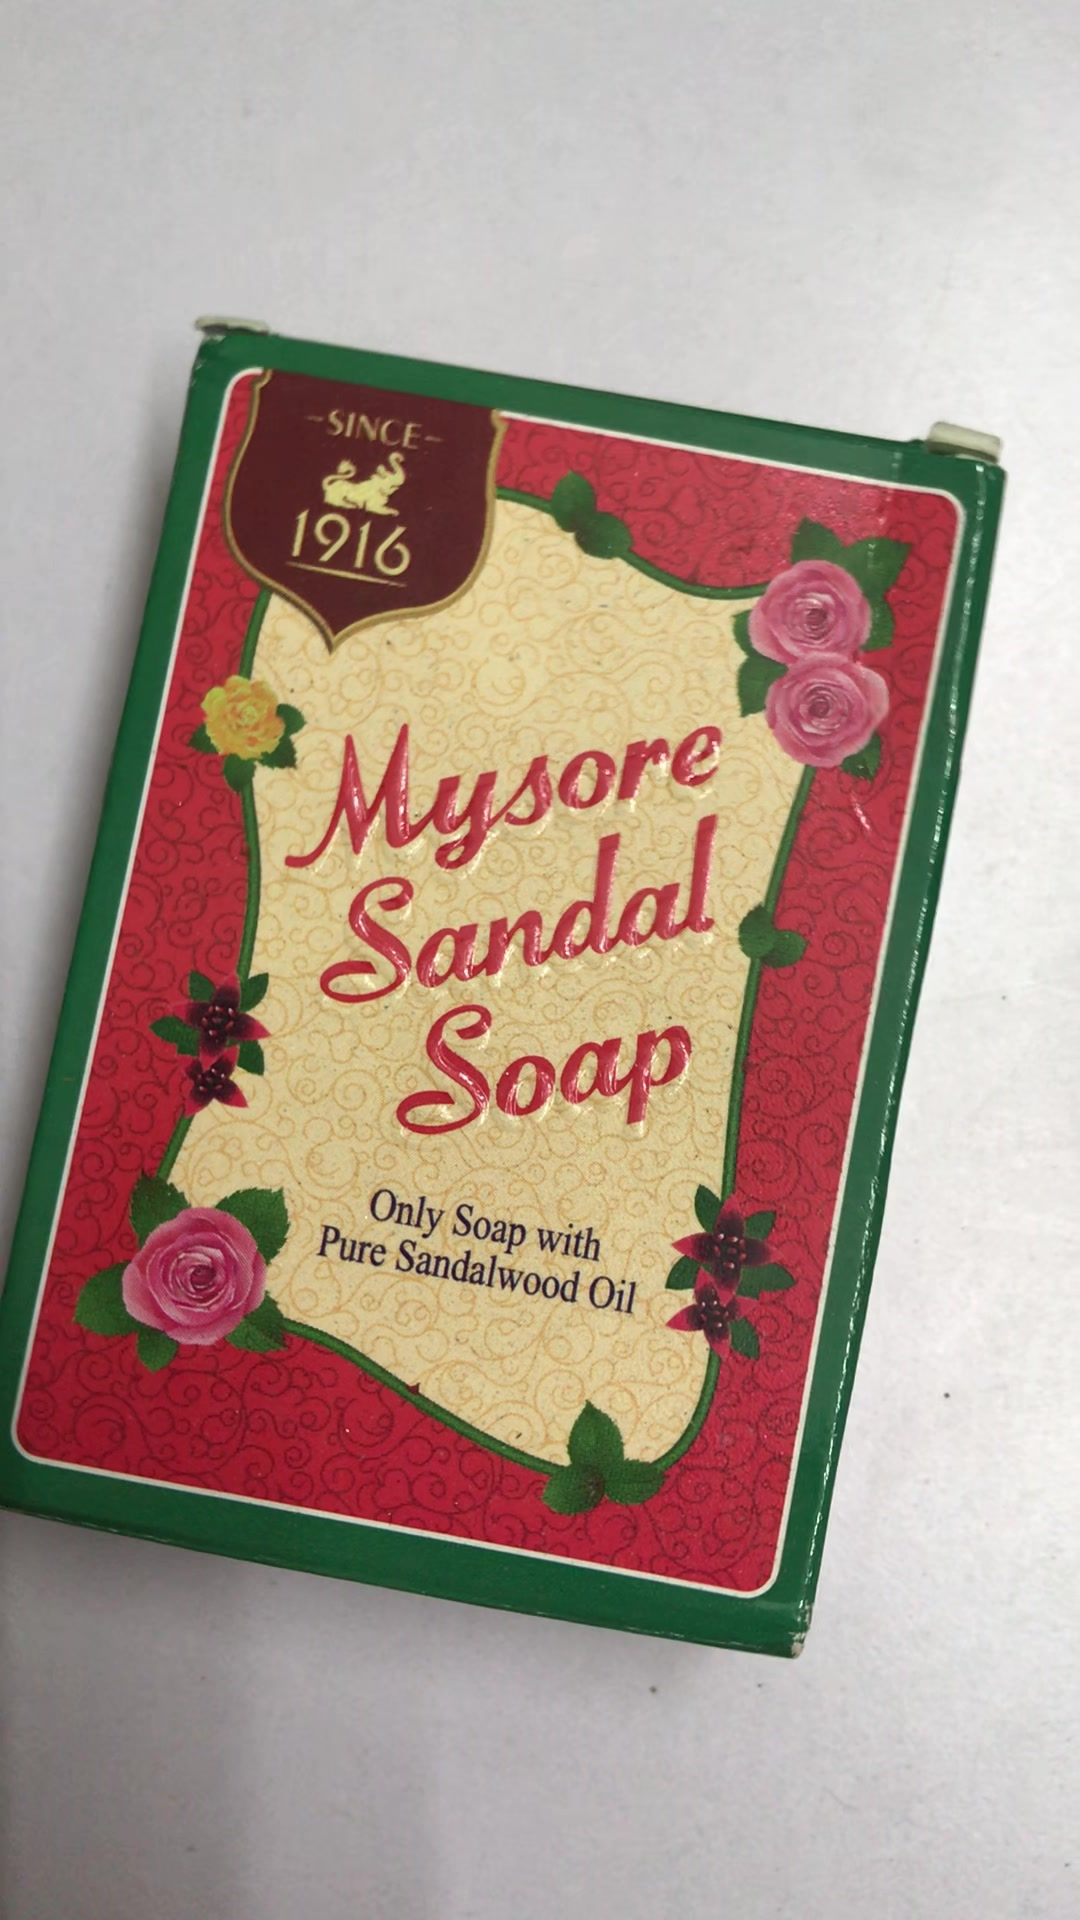mysore sandal soap: (7, 313, 1000, 1648)
